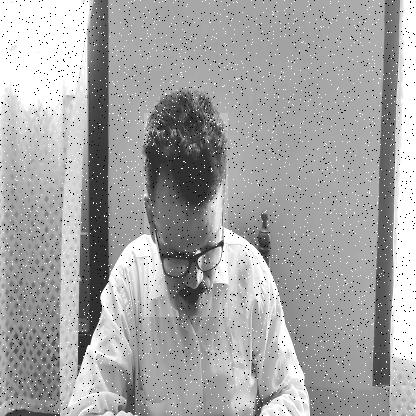Normal: (144, 113, 228, 317)
